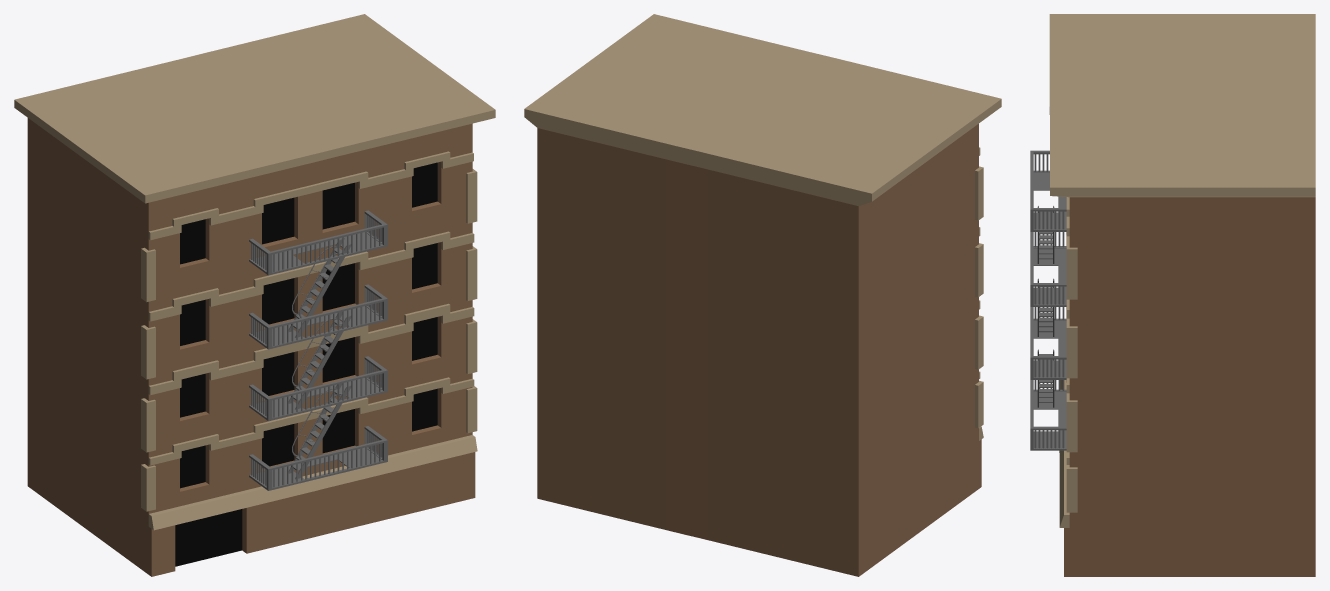
Rendered from Apartment.fbx.
3 renders of one model, left to right at view 1: azimuth 30°, elevation 25°; view 2: azimuth 150°, elevation 25°; view 3: azimuth 270°, elevation 25°, orthographic. The views are drawn at different scales.
Parts seen in each view (by area): view 1: polySurface452, polySurface454, polySurface451, polySurface410; view 2: polySurface452, polySurface454; view 3: polySurface452, polySurface454, polySurface410.
Part boxes in pixels (box(x1,y1,x2,y2)): polySurface452: box(27, 118, 475, 576); polySurface454: box(14, 14, 495, 530); polySurface451: box(175, 162, 437, 566); polySurface410: box(249, 210, 387, 490); polySurface452: box(537, 124, 981, 576); polySurface454: box(524, 14, 1001, 440); polySurface452: box(1064, 197, 1315, 576); polySurface454: box(1049, 14, 1315, 527); polySurface410: box(1030, 150, 1066, 450).
Bounding box in the file's own units: 26.06 × 27.68 × 18.1.
